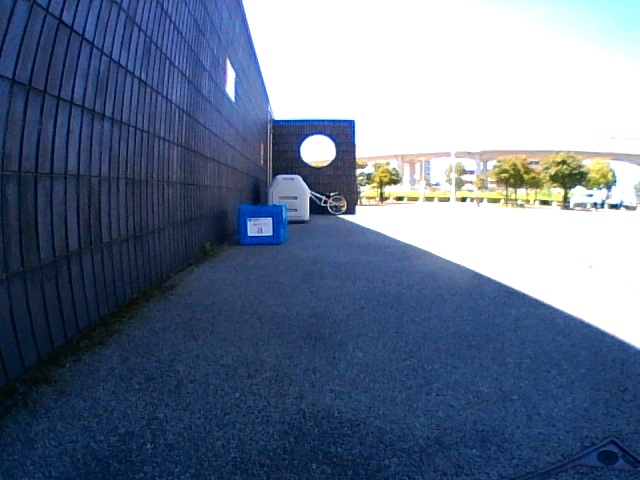blue_box: (237, 204, 286, 243)
tag_a: (249, 219, 270, 235)
